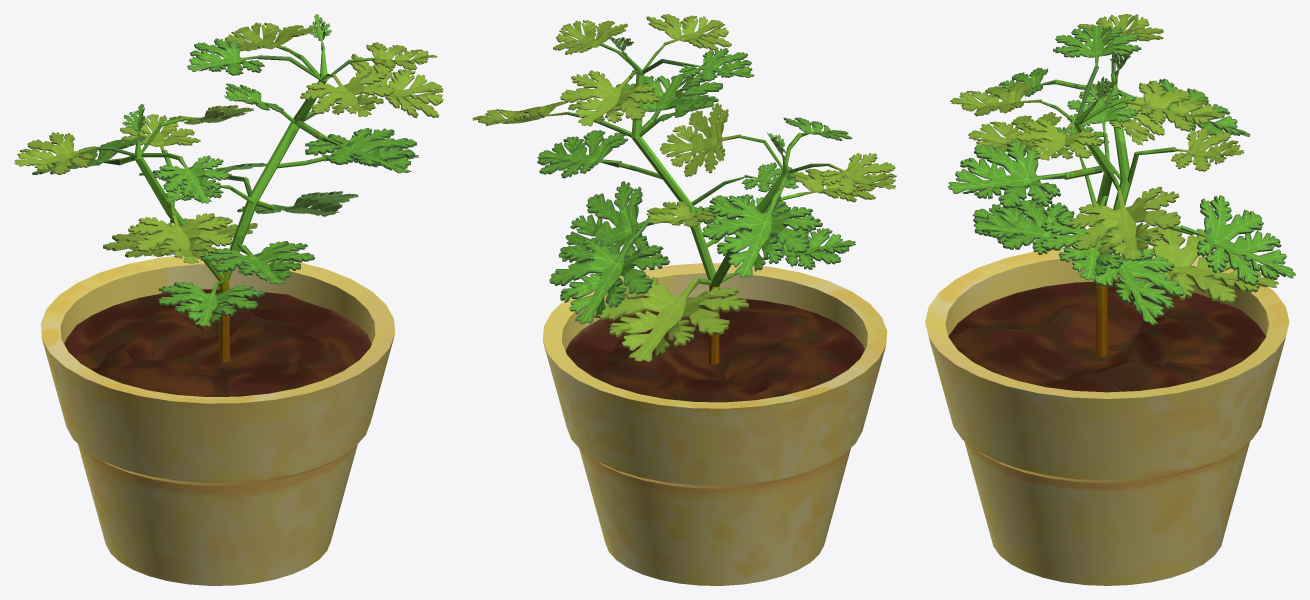
File: Pelargonium_Neutral_End.glb
3 views of the same model, side by side, from view 1: azimuth 30°, elevation 25°; view 2: azimuth 150°, elevation 25°; view 3: azimuth 270°, elevation 25° (orthographic). The views are drawn at different scales.
Visible parts, largest first — view 1: Pot; view 2: Pot; view 3: Pot.
Part boxes in pixels (x1=…): Pot: x1=14, y1=14, x2=443, y2=585; Pot: x1=472, y1=14, x2=896, y2=585; Pot: x1=925, y1=14, x2=1295, y2=585.
Bounding box in the file's own units: 2.86 × 3.15 × 2.08.
Materials: 4 (4 with a texture image).
